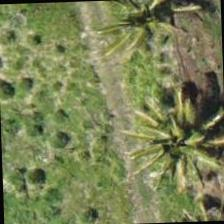Kelapa_Sawit: (139, 94, 223, 189), (102, 0, 195, 57)
